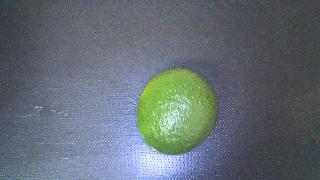EXPORTACION: (137, 68, 218, 155)
